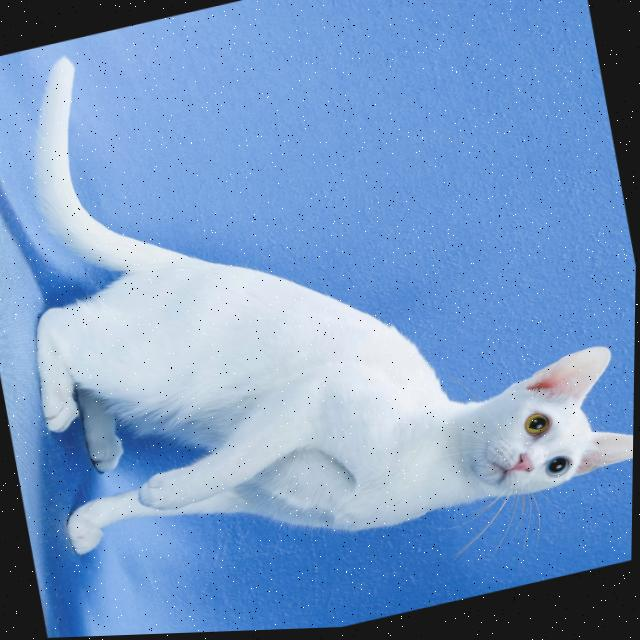Khao Manee: (0, 0, 640, 614)
